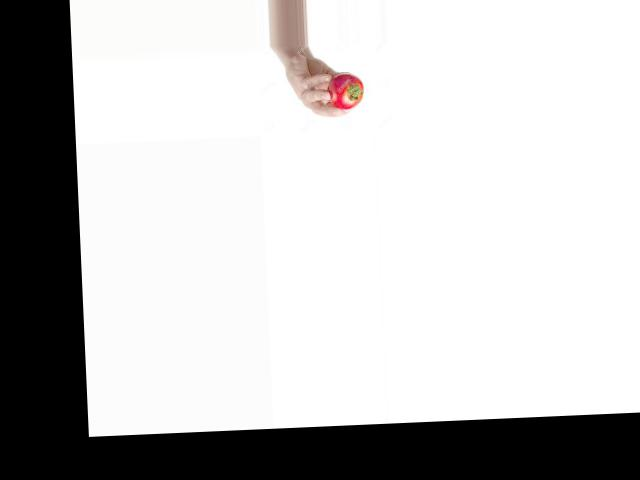tomato: (327, 72, 364, 109)
